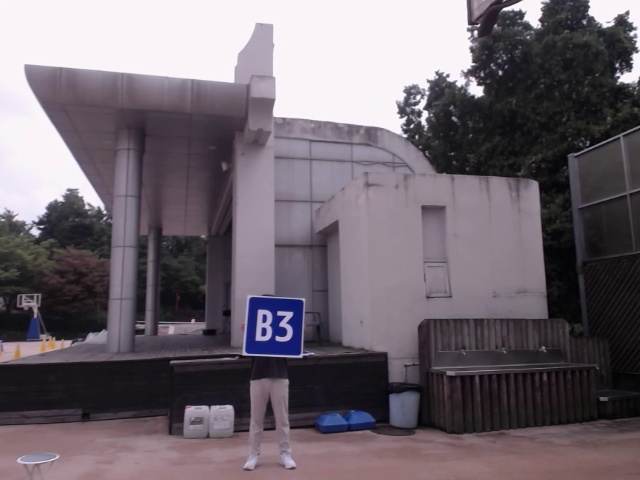delivery_b3: (246, 296, 303, 359)
